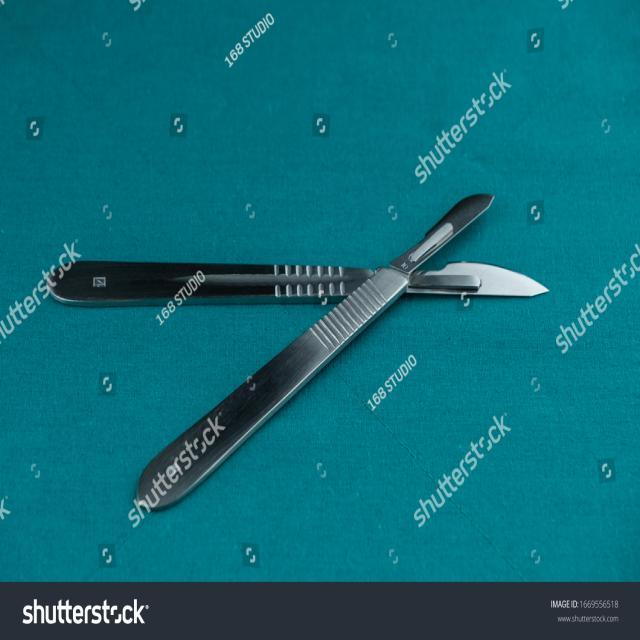Knife handle: (133, 264, 440, 514), (41, 222, 382, 306), (410, 248, 566, 310)
Surgical blade: (388, 151, 487, 273)
